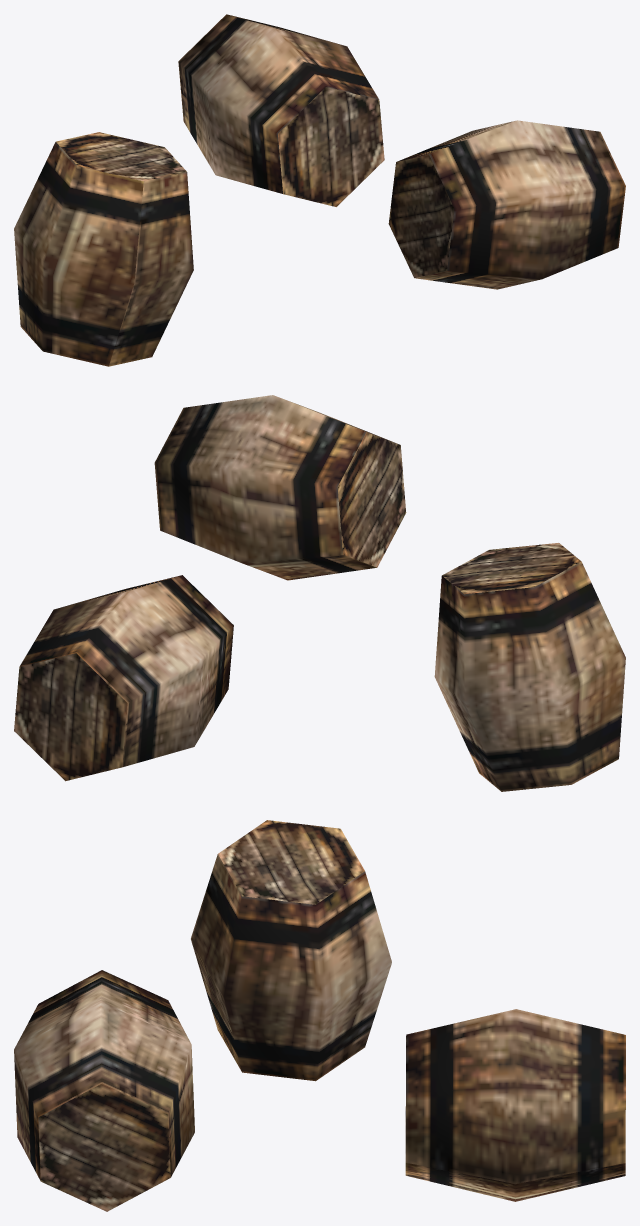
The model's file is treasure_barrels_buried.glb.
The picture shows the model from 3 angles, top to bottom: view 1: azimuth 30°, elevation 25°; view 2: azimuth 150°, elevation 25°; view 3: azimuth 270°, elevation 25°; orthographic projection. The views are drawn at different scales.
Parts seen in each view (by area): view 1: treasure_barrels_buried_part0; view 2: treasure_barrels_buried_part0; view 3: treasure_barrels_buried_part0.
Part boxes in pixels (bbox=[...]): treasure_barrels_buried_part0: bbox=[14, 14, 625, 366]; treasure_barrels_buried_part0: bbox=[14, 395, 625, 791]; treasure_barrels_buried_part0: bbox=[14, 820, 625, 1211].
Size of the model in its own units: 2.62 by 1.1 by 2.59.
1 material, 1 textured.
